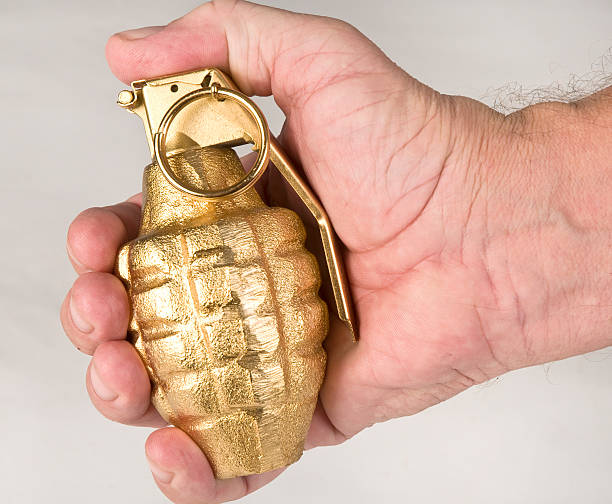e1: (114, 70, 363, 479)
